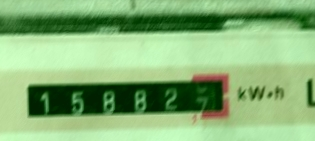1: (37, 89, 50, 115)
2: (161, 86, 178, 111)
5: (68, 89, 83, 115)
7: (192, 94, 208, 111)
8: (99, 88, 116, 113), (131, 87, 147, 113)
screen: (16, 69, 236, 130)
